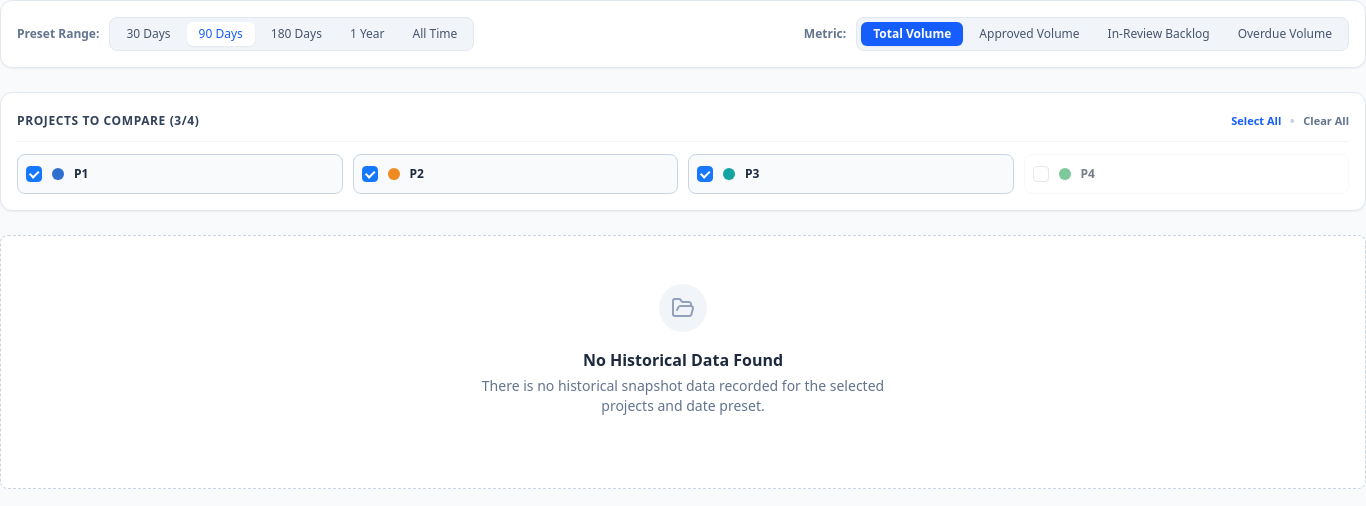
Test: TrendTab Component - Selection Memoization › auto-selects first 3 projects initially, but allows Clear All without re-selecting
Expected: the heading "Projects to Compare (3/4)" is shown, [17,113,200,129]
Note: Click "Clear All"
Click the button "Clear All".
click(1326, 121)  # box [1303,113,1349,129]
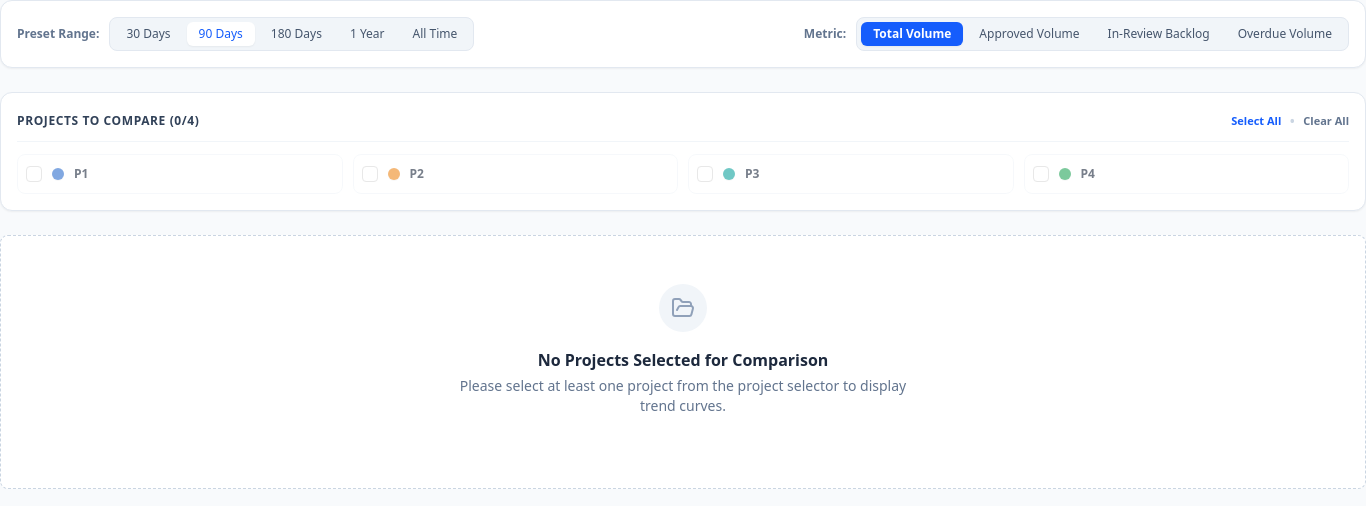
Result: the heading "Projects to Compare (0/4)" is shown at [17,113,200,129]
